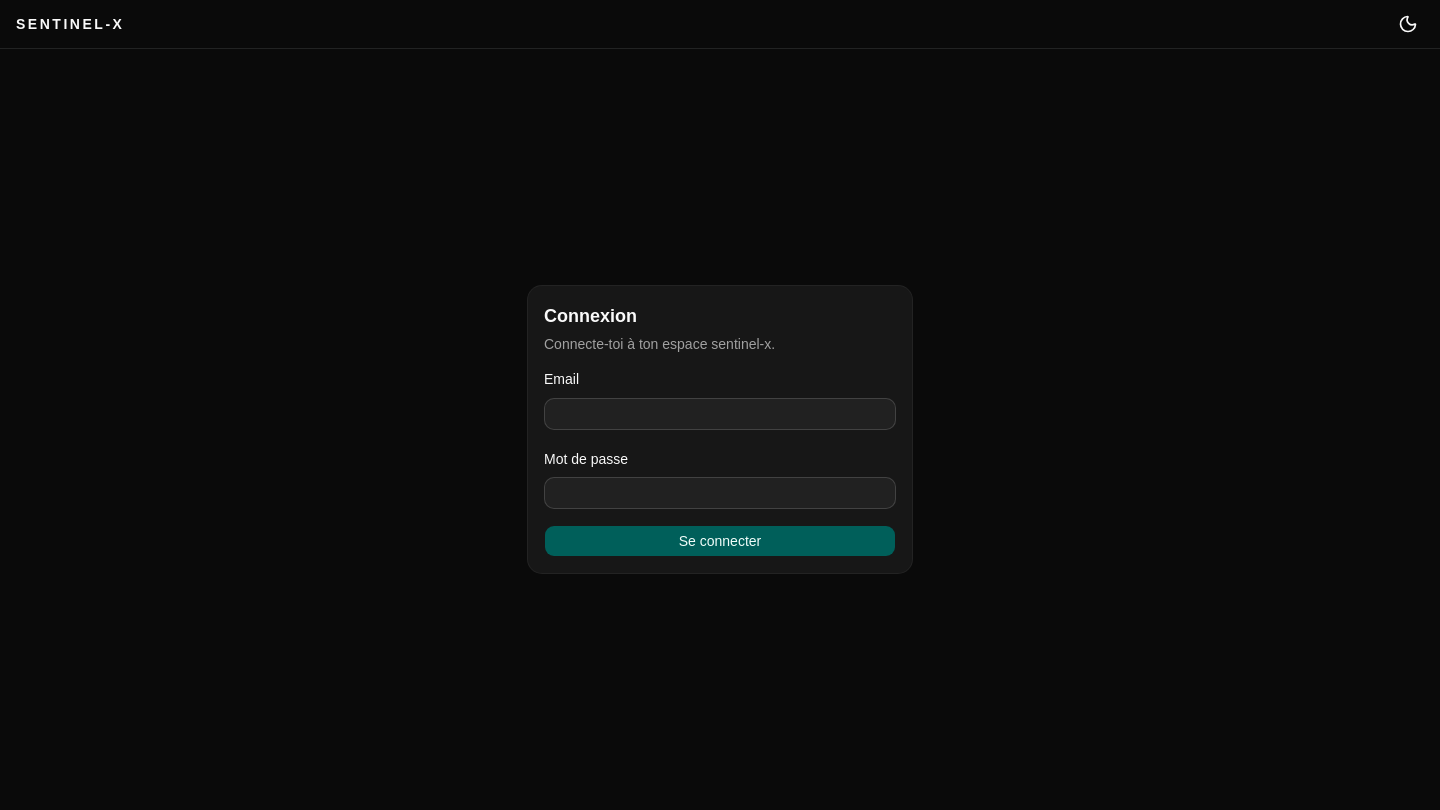
Test: LoginPage › reports wrong credentials
Type "alice@example.com" into the field labelled "Email" at coordinates (720, 414), box [544, 398, 896, 430]
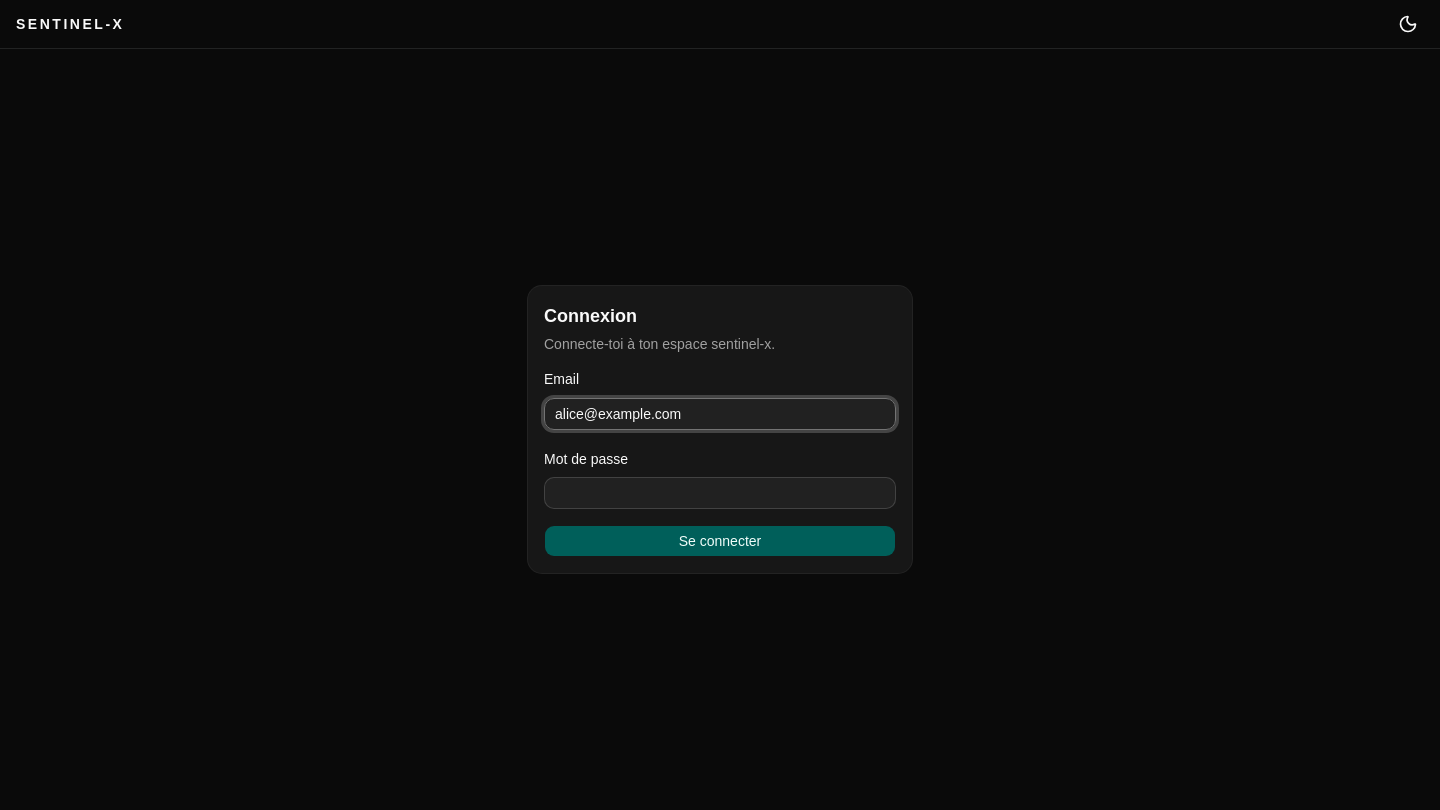
Type "wrong" into the password field labelled "Mot de passe" at coordinates (720, 493), box [544, 477, 896, 509]
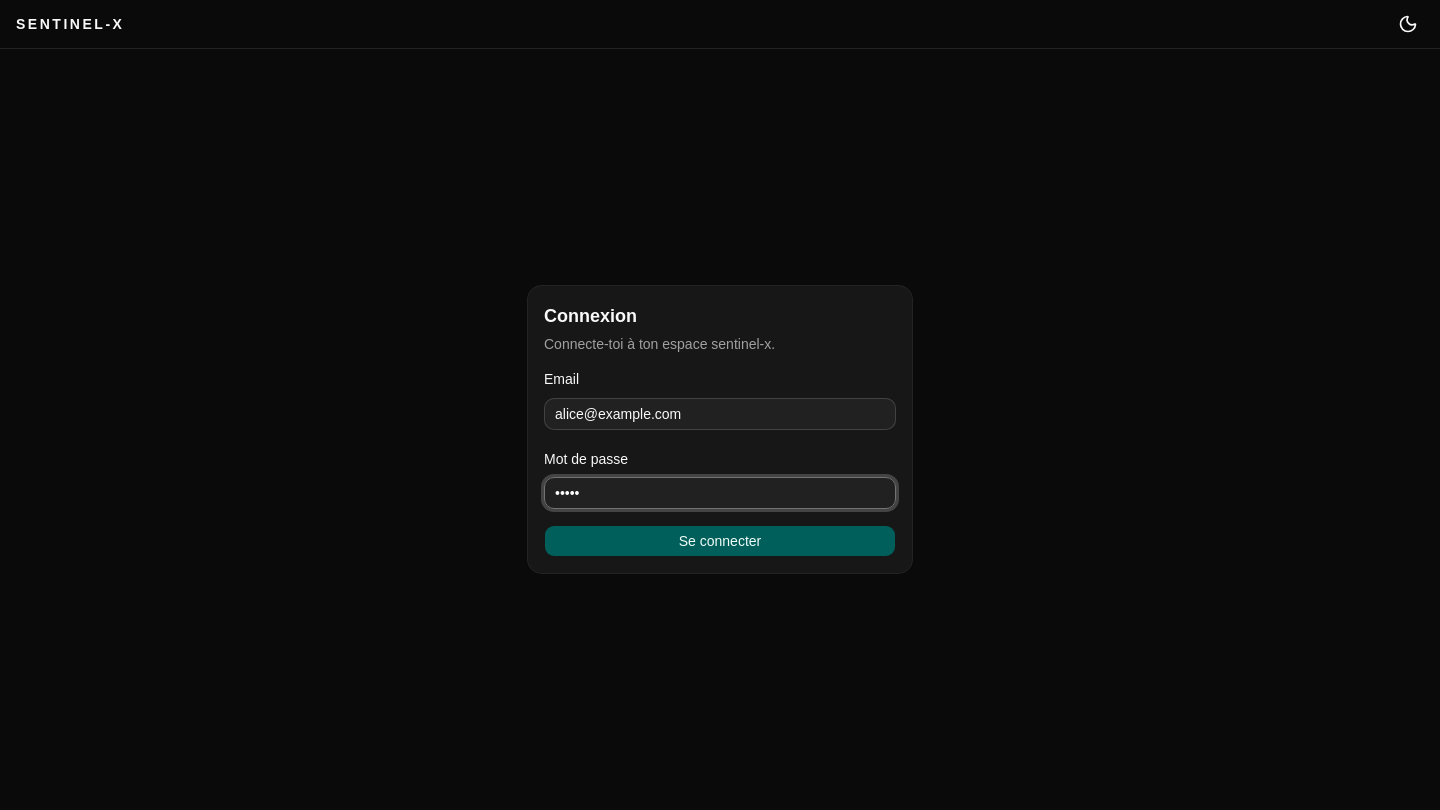
Click the button "Se connecter" at coordinates (720, 541), box [544, 525, 896, 557]
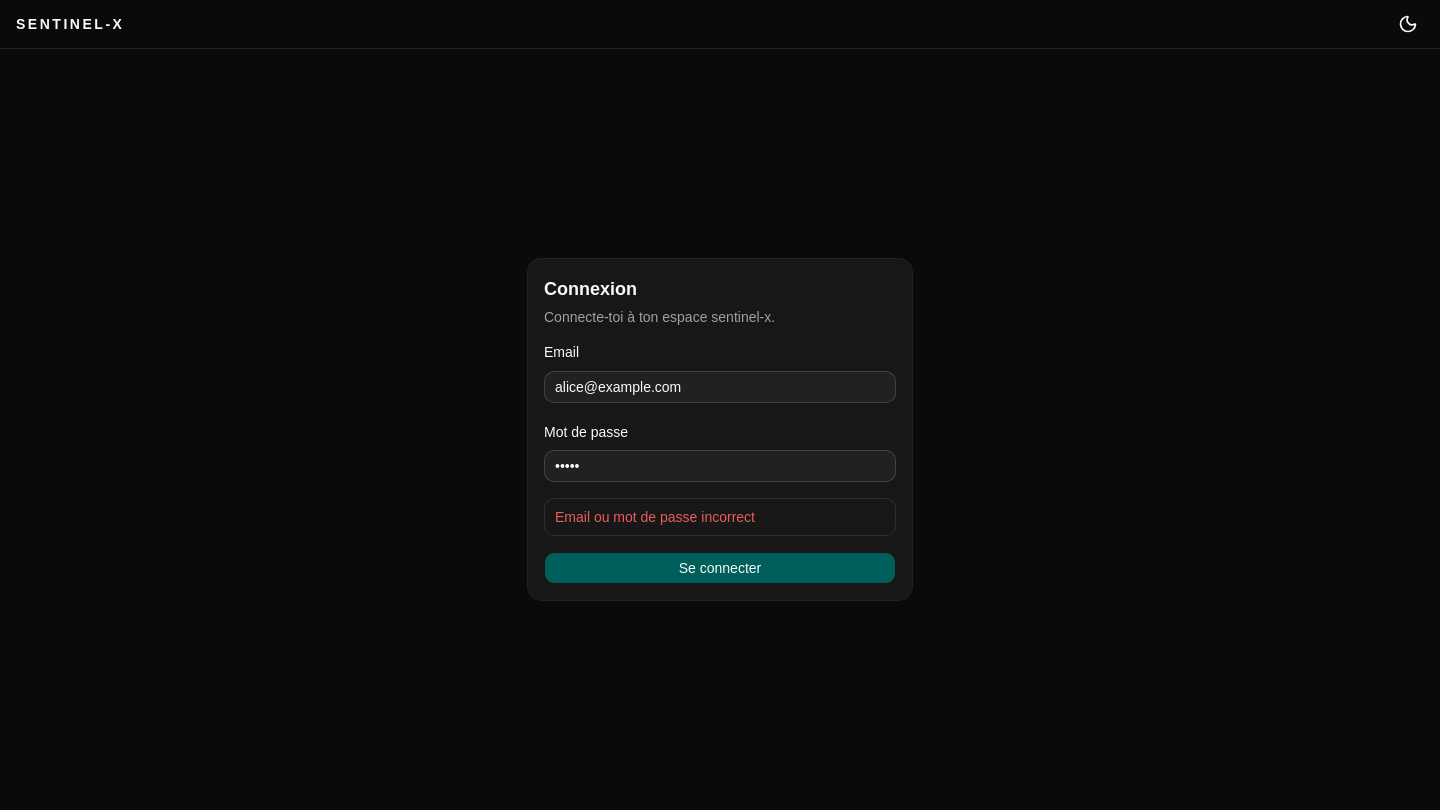
Expected: the message reads "Email ou mot de passe incorrect", [555, 509, 755, 525]
